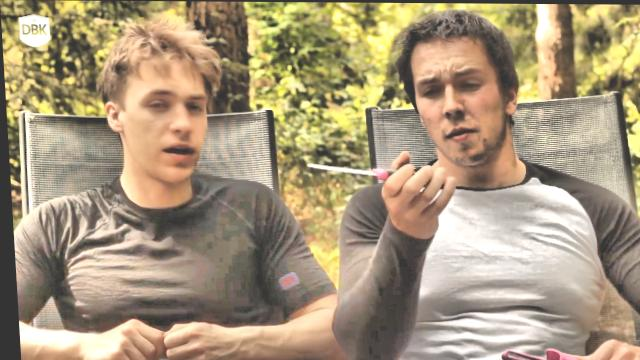knife: (293, 151, 459, 205)
